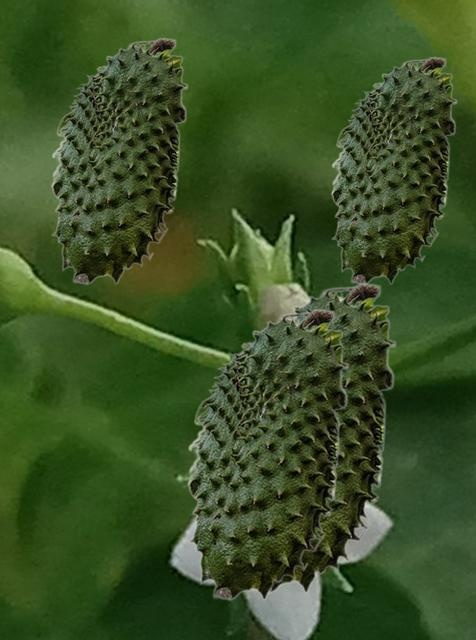guyabano: (186, 308, 348, 600), (252, 282, 395, 593), (50, 37, 187, 284), (330, 56, 456, 284)
